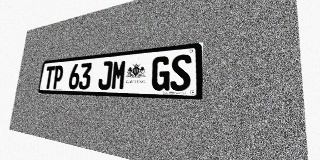3: (78, 63, 92, 89)
6: (68, 63, 81, 89)
G: (151, 56, 171, 91)
J: (97, 61, 113, 90)
M: (110, 59, 127, 90)
P: (52, 65, 64, 89)
S: (170, 54, 192, 91)
T: (44, 66, 55, 89)
